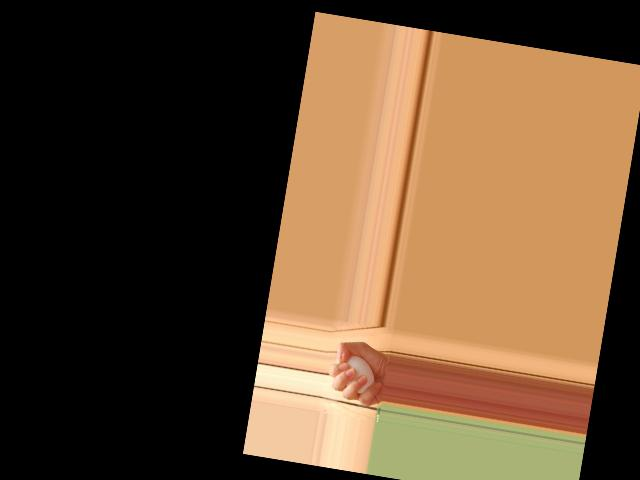egg: (339, 354, 378, 396)
